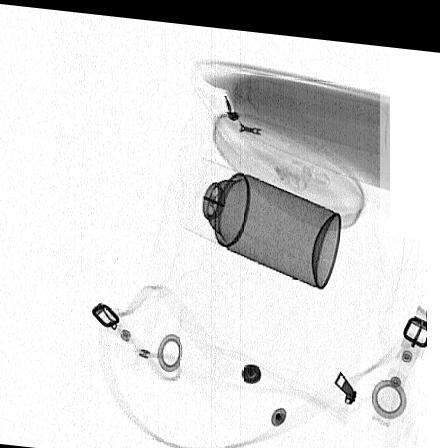Sprayer: (179, 152, 341, 283)
